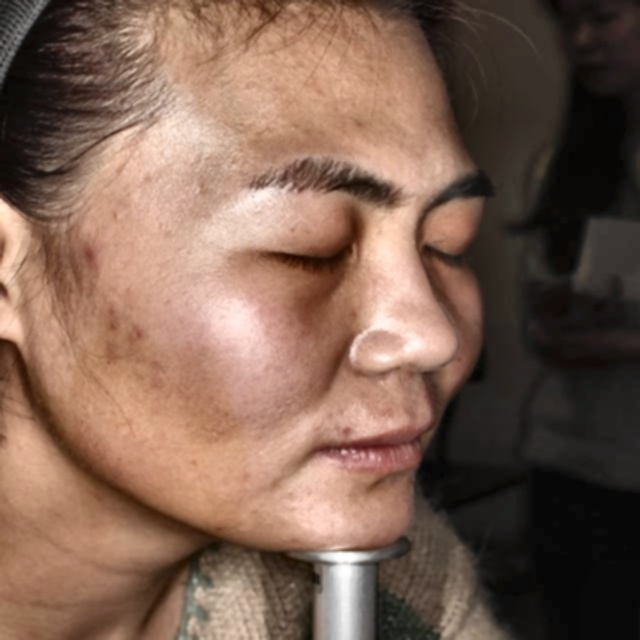comedone: (64, 235, 99, 281), (131, 320, 153, 346)
